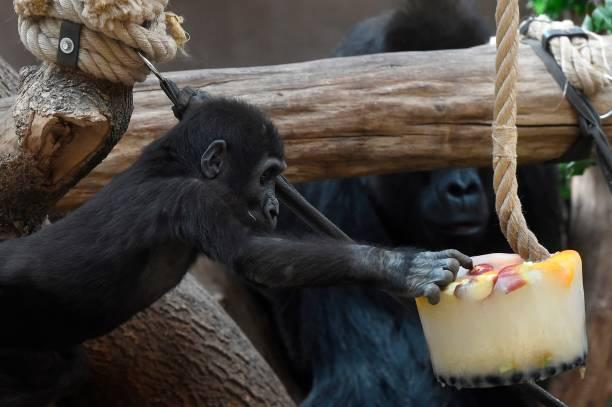gorille_Autres: (17, 97, 351, 400)
